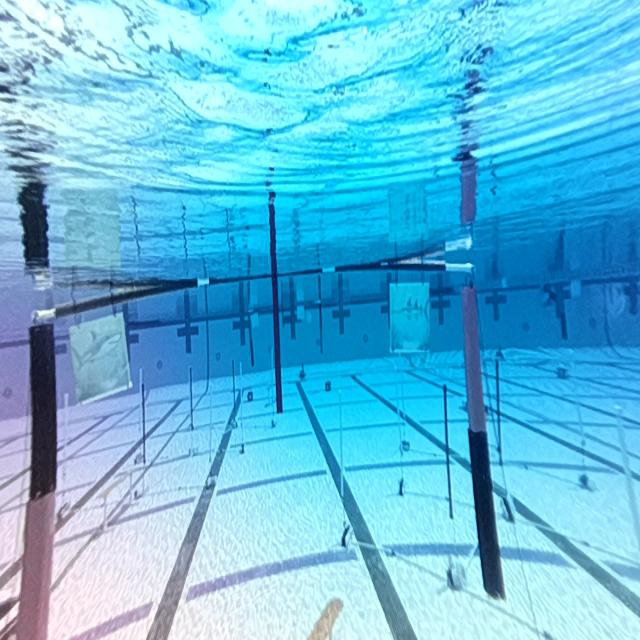pointed_nose: (389, 277, 422, 346)
round_nose: (66, 310, 135, 402)
